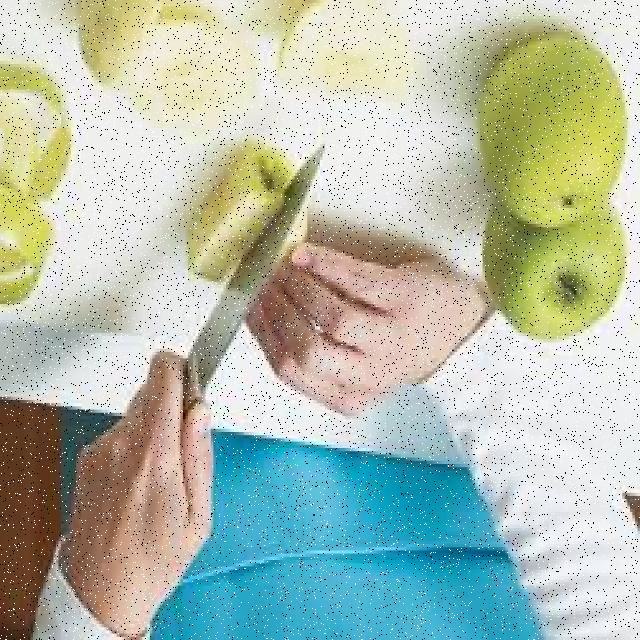Apple: (470, 35, 628, 228), (484, 222, 632, 343), (186, 147, 298, 280)
